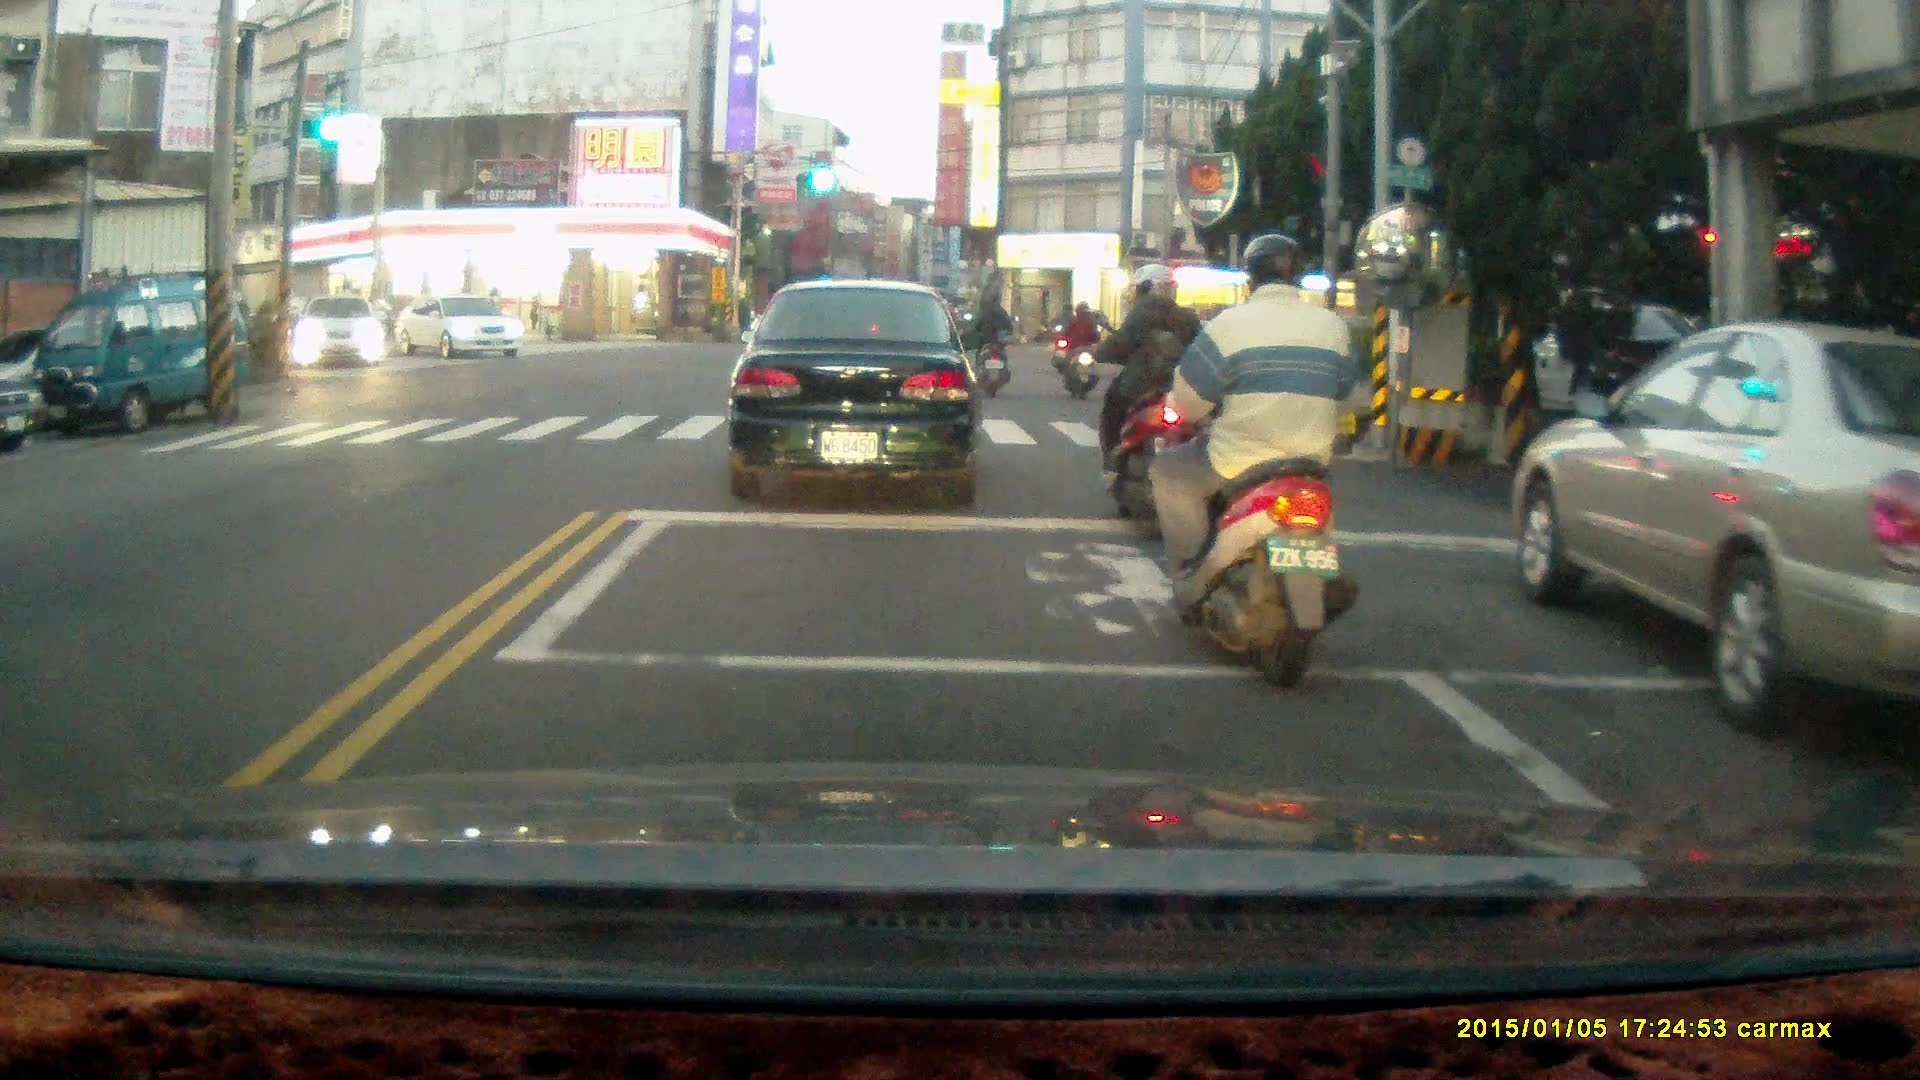rider: (1156, 233, 1373, 693), (1079, 257, 1215, 538), (962, 284, 1022, 395), (1057, 299, 1100, 401), (1046, 300, 1077, 375)
vehicle: (1510, 318, 1920, 744), (721, 276, 985, 505), (34, 268, 259, 435), (392, 293, 524, 362), (289, 294, 393, 370)
